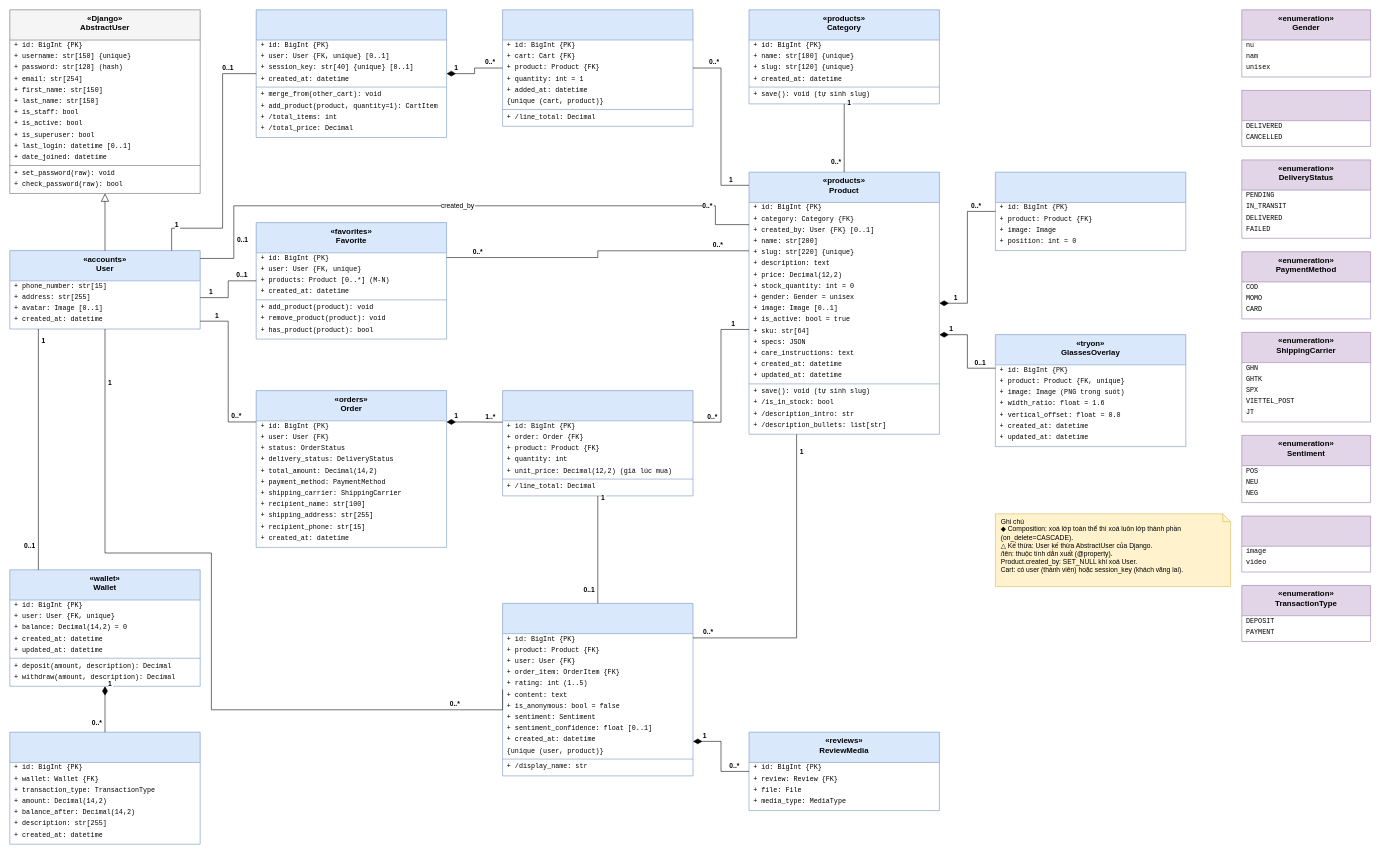
This 1380x854 diagram has some shape labels left out. The shapes that lost their labels are listed below. From the top down, each one's box as (x1, y1, x2, y2) in pixels, then its label:
(256, 9, 447, 137): «cart» Cart
(502, 9, 693, 126): «cart» CartItem
(1241, 90, 1371, 146): «enumeration» OrderStatus
(995, 172, 1186, 251): «products» ProductImage
(502, 390, 693, 496): «orders» OrderItem
(1241, 515, 1371, 572): «enumeration» MediaType
(502, 603, 693, 776): «reviews» Review
(9, 732, 200, 844): «wallet» Transaction
